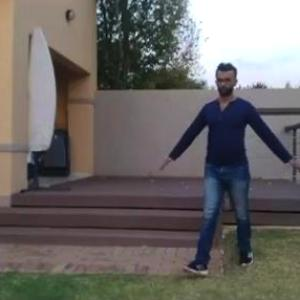land: (157, 62, 300, 274)
